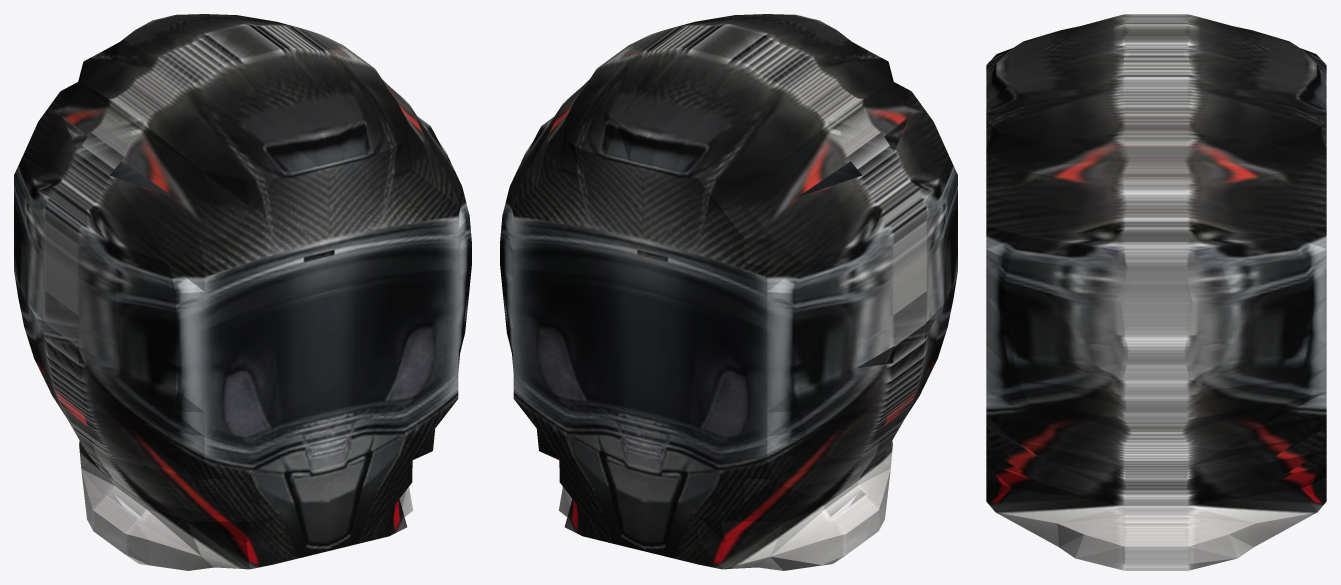
Rendered from hjc-nomad-modular-helmet-057.glb.
The picture shows the model from 3 angles, left to right: view 1: azimuth 30°, elevation 25°; view 2: azimuth 150°, elevation 25°; view 3: azimuth 270°, elevation 25°; orthographic projection.
Parts seen in each view (by area): view 1: world; view 2: world; view 3: world.
Part boxes in pixels (x1,y1,x2,y2): world: (14, 14, 471, 570); world: (500, 14, 957, 570); world: (986, 14, 1326, 570).
Size of the model in its own units: 0.7796 by 1 by 0.64.
Materials: 1 (1 with a texture image).
